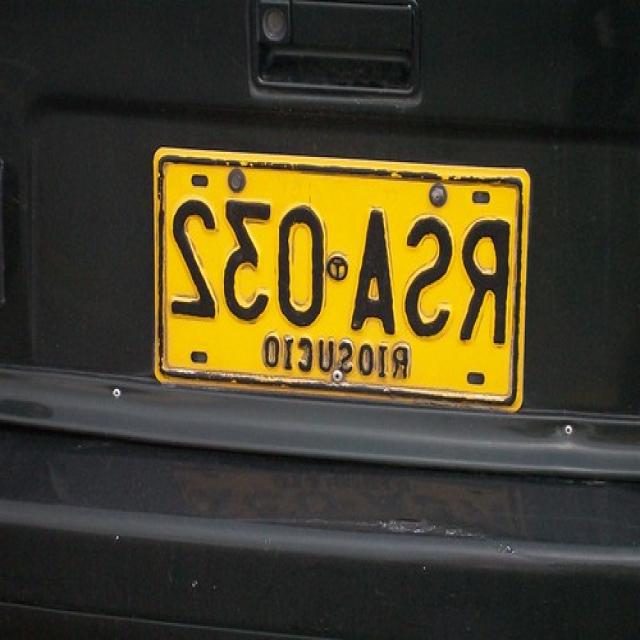placas: (156, 181, 523, 358)
